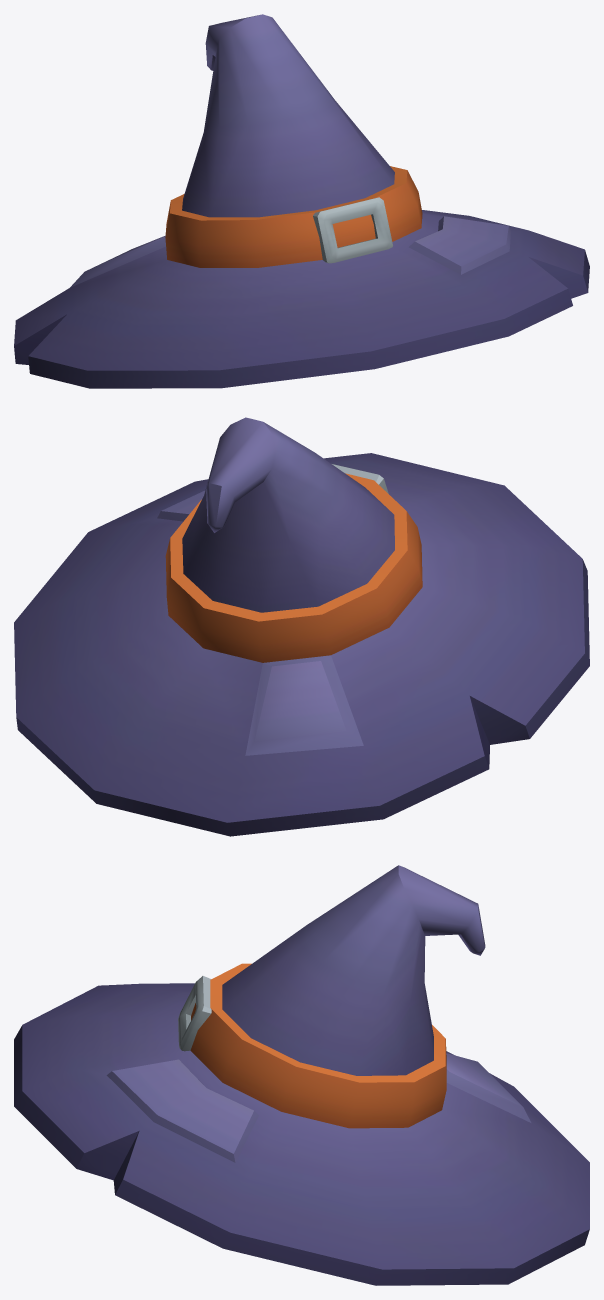
The model's file is Mage_Hat.glb.
3 renders of one model, top to bottom at view 1: azimuth 30°, elevation 25°; view 2: azimuth 150°, elevation 25°; view 3: azimuth 270°, elevation 25°, orthographic. The views are drawn at different scales.
Visible parts, largest first — view 1: Mage_Hat; view 2: Mage_Hat; view 3: Mage_Hat.
Part boxes in pixels (bbox=[...]): Mage_Hat: bbox=[14, 14, 589, 388]; Mage_Hat: bbox=[14, 417, 589, 836]; Mage_Hat: bbox=[14, 865, 589, 1285].
Bounding box in the file's own units: 2.09 × 1.34 × 2.04.
Materials: 1 (1 with a texture image).
